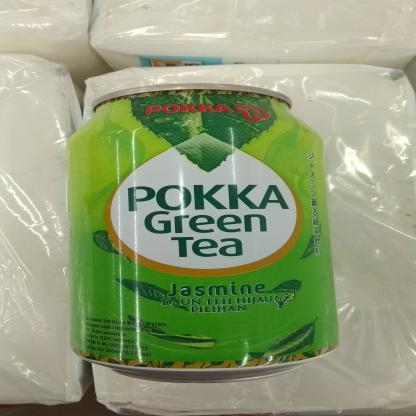mouse: (63, 78, 348, 386)
